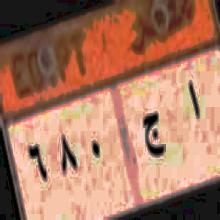0: (86, 131, 104, 174)
6: (29, 130, 51, 192)
8: (56, 133, 82, 182)
alif: (187, 74, 202, 132)
jeem: (141, 100, 164, 169)
